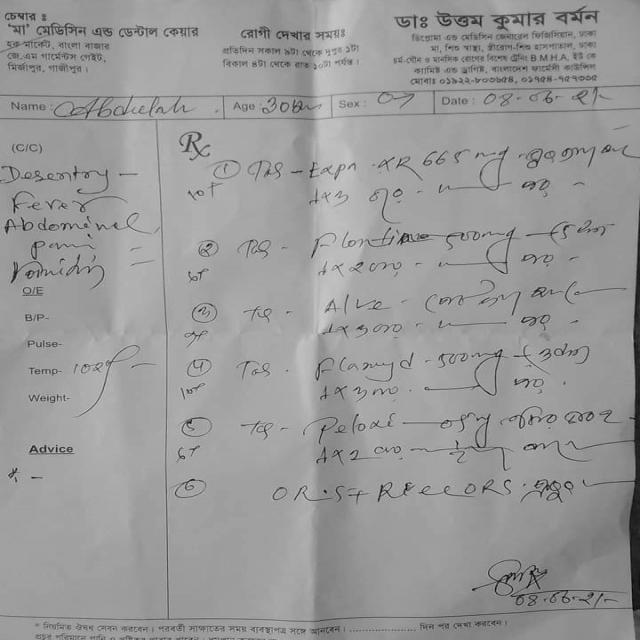medicine: (292, 223, 422, 254), (307, 349, 428, 382), (300, 408, 397, 446), (260, 478, 350, 511), (322, 157, 418, 180), (310, 291, 394, 316)
